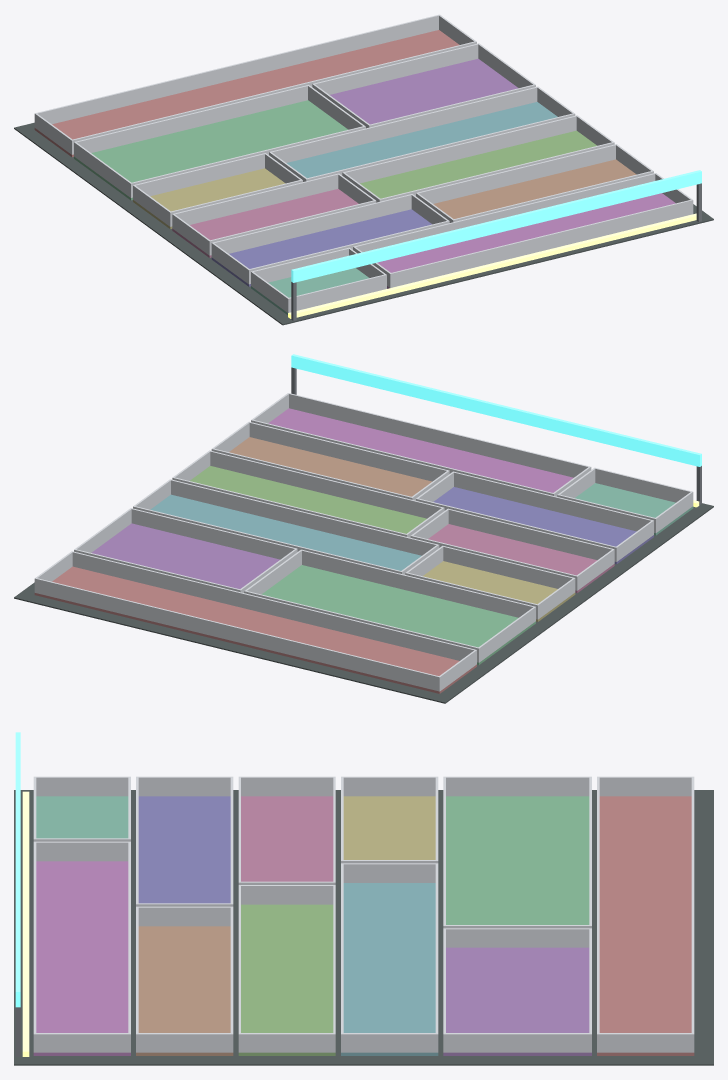
The model's file is hall-medical-gas.glb.
3 renders of one model, top to bottom at view 1: azimuth 30°, elevation 25°; view 2: azimuth 150°, elevation 25°; view 3: azimuth 270°, elevation 25°, orthographic. The views are drawn at different scales.
Parts seen in each view (by area): view 1: Medical Gas Installers; view 2: Medical Gas Installers; view 3: Medical Gas Installers.
Part boxes in pixels (x1=…): Medical Gas Installers: x1=14, y1=14, x2=713, y2=325; Medical Gas Installers: x1=14, y1=354, x2=713, y2=703; Medical Gas Installers: x1=14, y1=732, x2=713, y2=1065.
Bounding box in the file's own units: 38 × 4.3 × 41.
